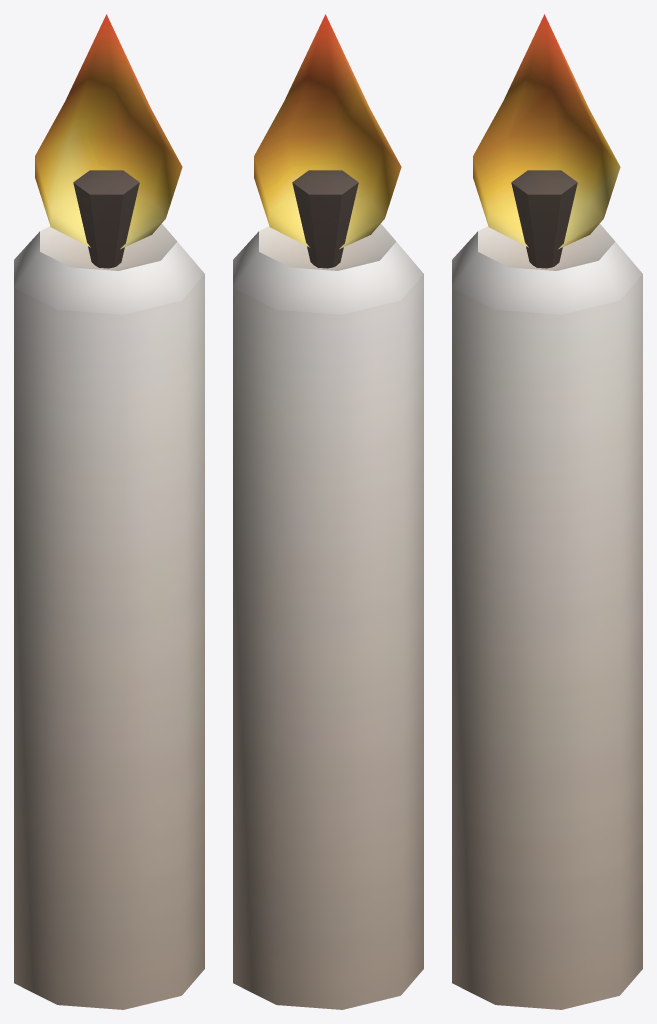
Rendered from candle_thin_lit.glb.
The picture shows the model from 3 angles, left to right: view 1: azimuth 30°, elevation 25°; view 2: azimuth 150°, elevation 25°; view 3: azimuth 270°, elevation 25°; orthographic projection.
Parts seen in each view (by area): view 1: candle_thin_lit; view 2: candle_thin_lit; view 3: candle_thin_lit.
Boxes of the visible parts, x1=… form: candle_thin_lit: x1=14, y1=14, x2=204, y2=1009; candle_thin_lit: x1=233, y1=14, x2=423, y2=1009; candle_thin_lit: x1=452, y1=14, x2=642, y2=1009.
Bounding box in the file's own units: 0.1932 × 1.05 × 0.1903.
Materials: 1 (1 with a texture image).
